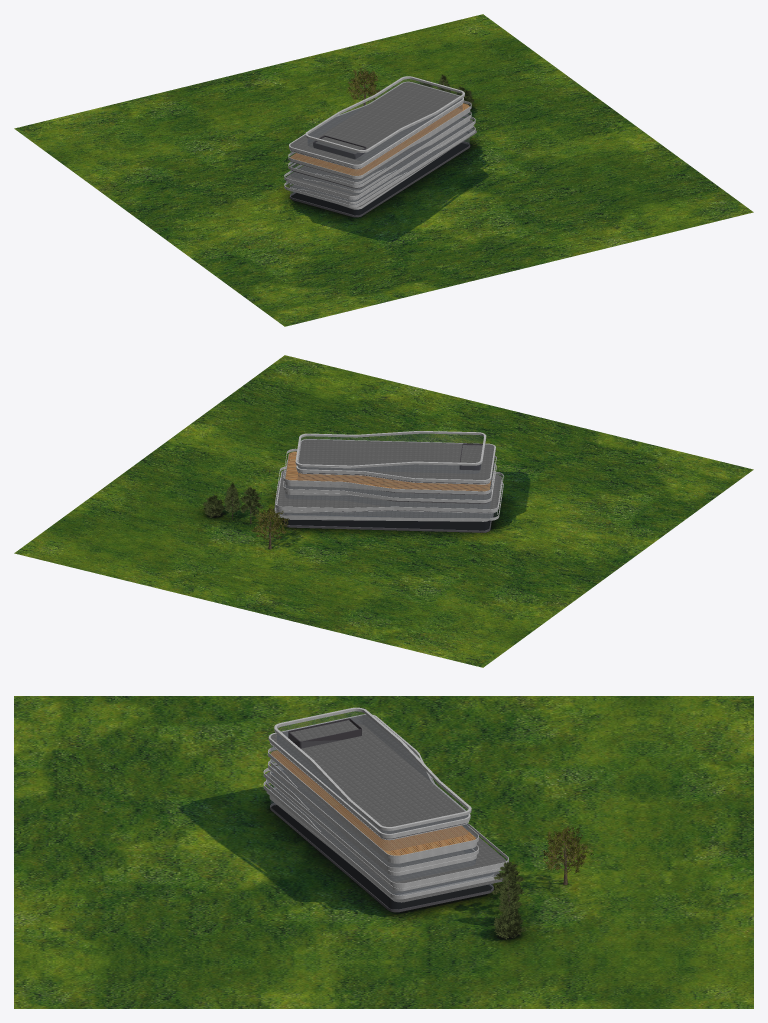
File: 1target.glb
3 renders of one model, top to bottom at view 1: azimuth 30°, elevation 25°; view 2: azimuth 150°, elevation 25°; view 3: azimuth 270°, elevation 25°, orthographic. The views are drawn at different scales.
Visible parts, largest first — view 1: 平面, 大楼, 外墙, 玻璃, 大树1; view 2: 平面, 大楼, 玻璃, 外墙, 大树1; view 3: 平面, 大楼, 外墙, 玻璃, 大树1, 圆树, 松树1.
Boxes of the visible parts, x1,y1,x2,y2 form: 平面: (14, 14, 753, 326); 大楼: (286, 82, 476, 217); 外墙: (284, 76, 475, 209); 玻璃: (286, 79, 473, 214); 大树1: (347, 67, 380, 105); 平面: (14, 355, 753, 667); 大楼: (274, 439, 501, 532); 玻璃: (277, 434, 496, 530); 外墙: (275, 431, 503, 521); 大树1: (251, 505, 289, 549); 平面: (14, 696, 753, 1008); 大楼: (266, 715, 505, 912); 外墙: (263, 707, 508, 899); 玻璃: (267, 711, 504, 909); 大树1: (542, 826, 593, 884); 圆树: (493, 907, 526, 939); 松树1: (497, 872, 521, 922).
Bounding box in the file's own units: 233 × 30.49 × 233.
11 materials, 10 textured.
